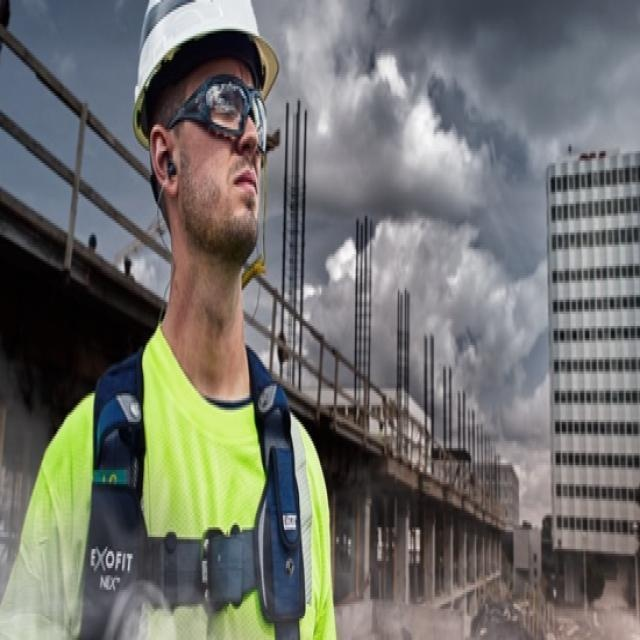Arnes_seguridad: (66, 321, 318, 638)
